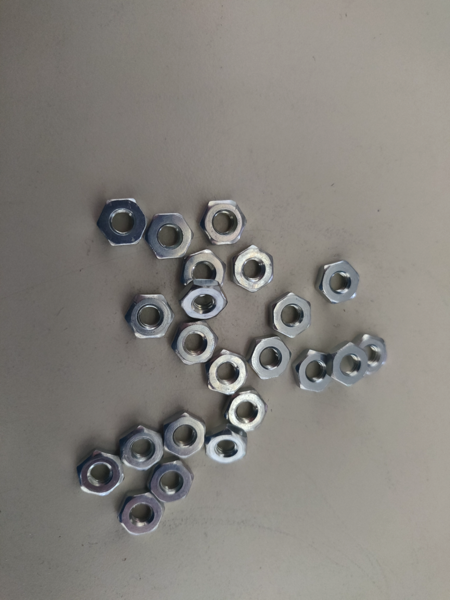nut: (199, 197, 249, 247), (97, 198, 146, 246), (76, 448, 123, 496), (227, 247, 274, 294), (162, 411, 207, 460), (124, 295, 173, 339), (118, 489, 163, 536), (149, 214, 195, 259), (118, 425, 163, 471), (181, 280, 227, 323), (271, 293, 313, 340), (318, 261, 360, 307), (151, 459, 194, 503), (173, 324, 216, 367), (209, 348, 248, 394), (330, 341, 369, 387), (251, 337, 290, 380), (226, 390, 266, 431), (206, 426, 247, 465), (294, 349, 331, 392), (186, 249, 223, 289), (360, 335, 387, 376)
